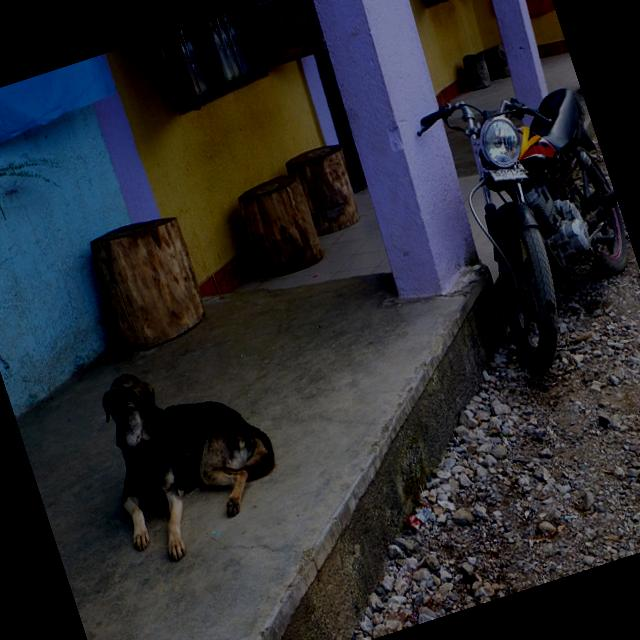Vehicle: (415, 64, 640, 380)
